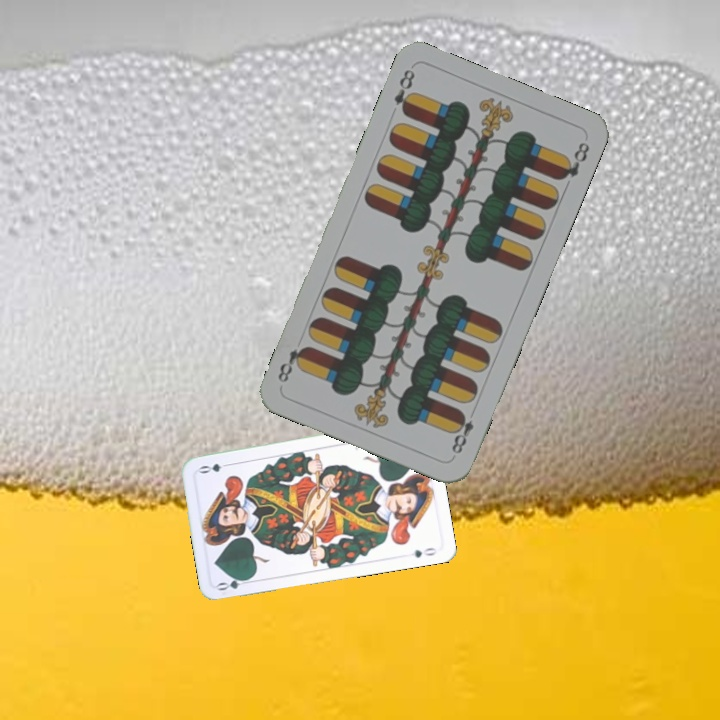E8: (389, 65, 418, 118), (447, 407, 477, 457)
GO: (214, 573, 254, 593)
